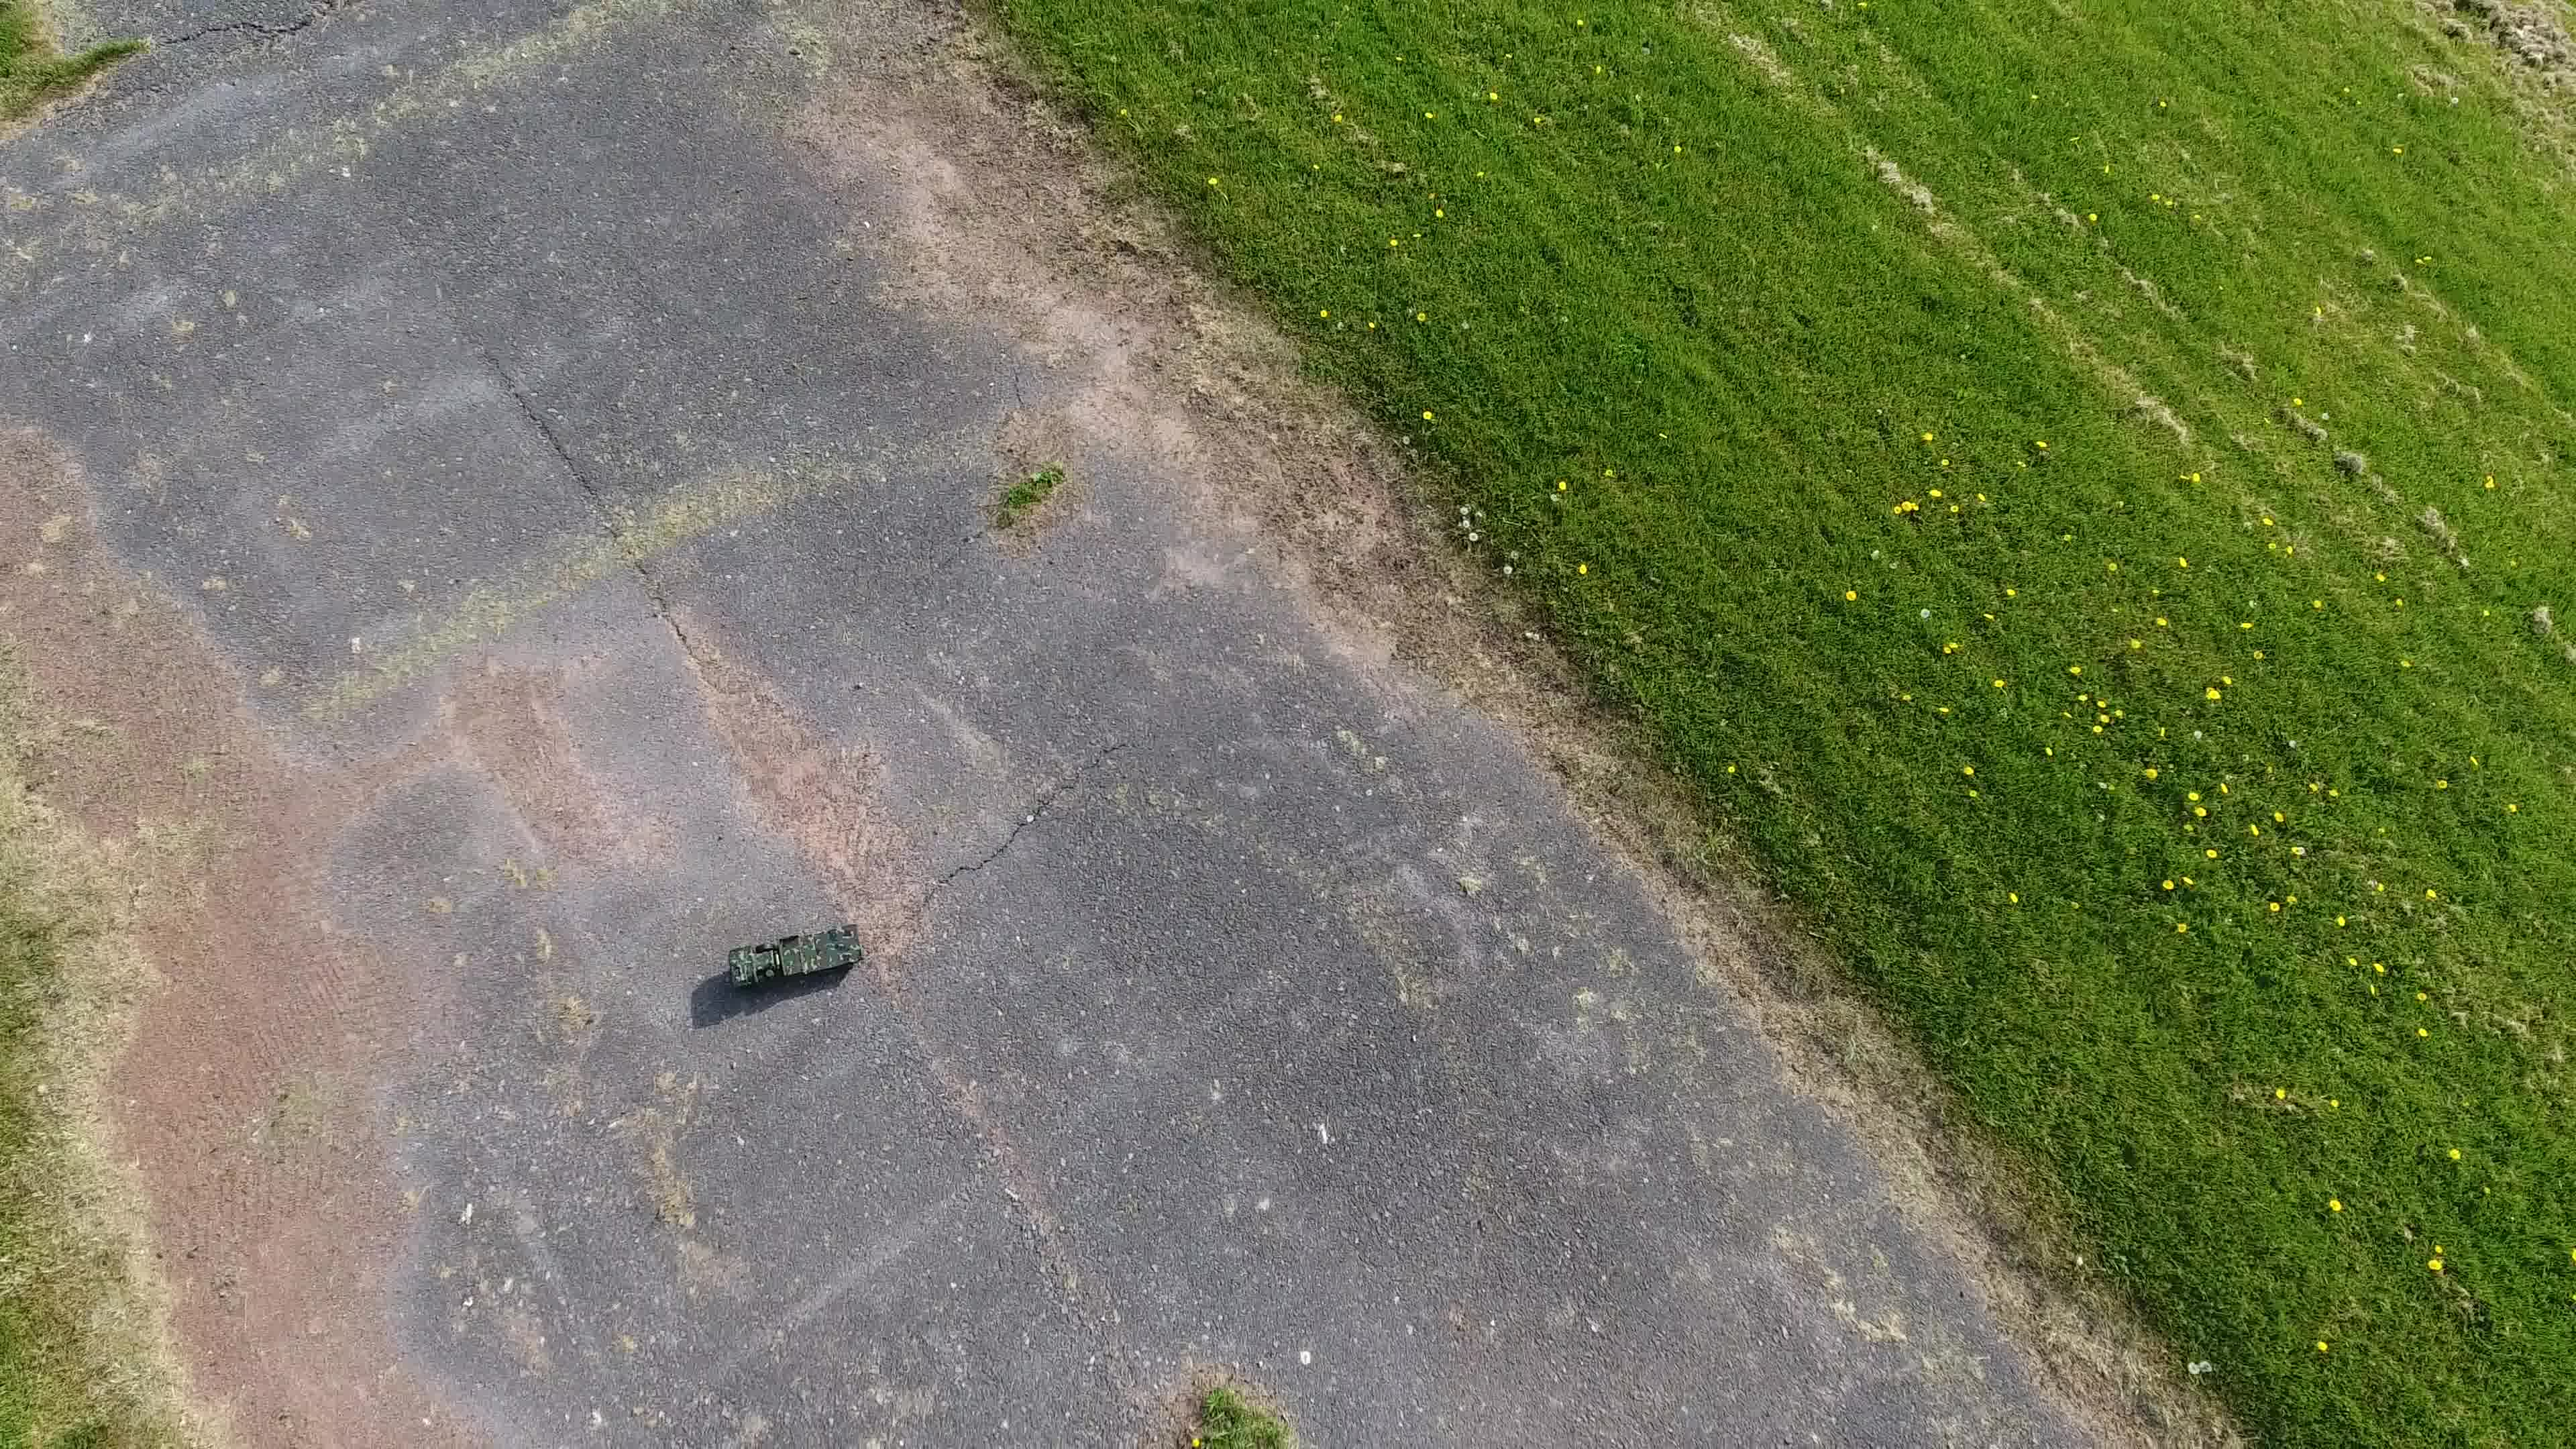transporter9_camo: (725, 916, 867, 996)
